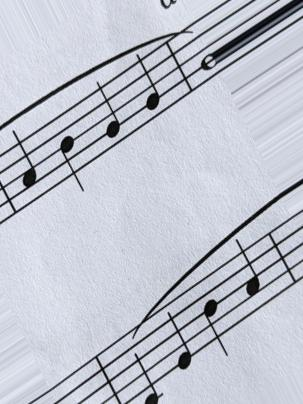A: (4, 130, 43, 200), (233, 240, 266, 318)
B: (193, 280, 236, 363), (57, 115, 91, 198)
E: (163, 302, 199, 370)
G: (132, 52, 164, 119), (95, 81, 123, 154)
LC: (130, 326, 170, 403)
